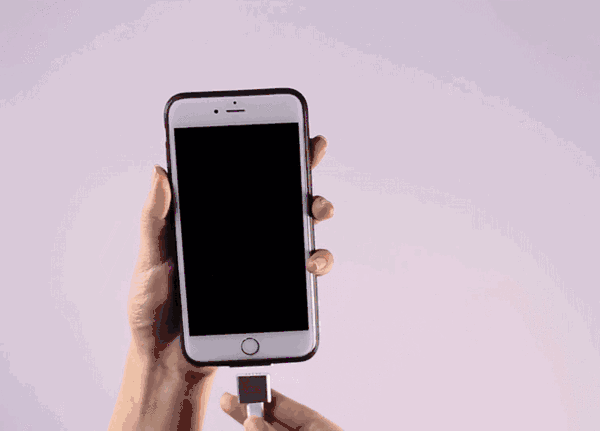phone: (163, 98, 322, 362)
